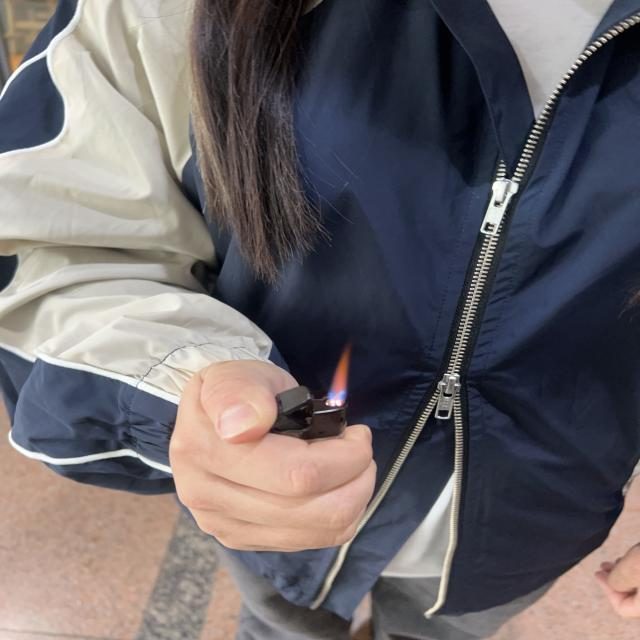fire: (329, 347, 352, 403)
